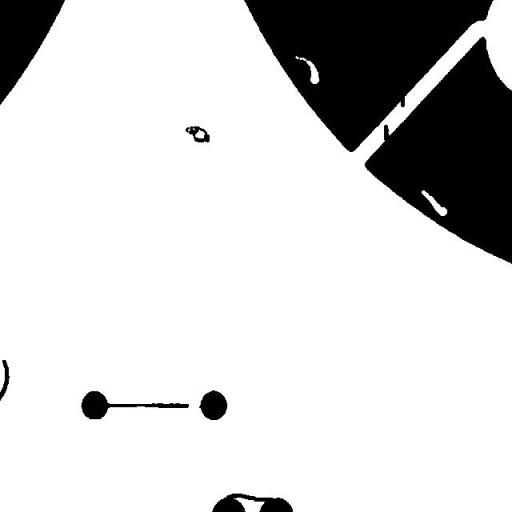copper: (178, 118, 216, 150)
open: (180, 392, 208, 421)
pin-hole: (414, 182, 454, 224), (288, 48, 326, 91)
short: (218, 486, 281, 508)
spur: (376, 117, 397, 151), (393, 88, 412, 114)
